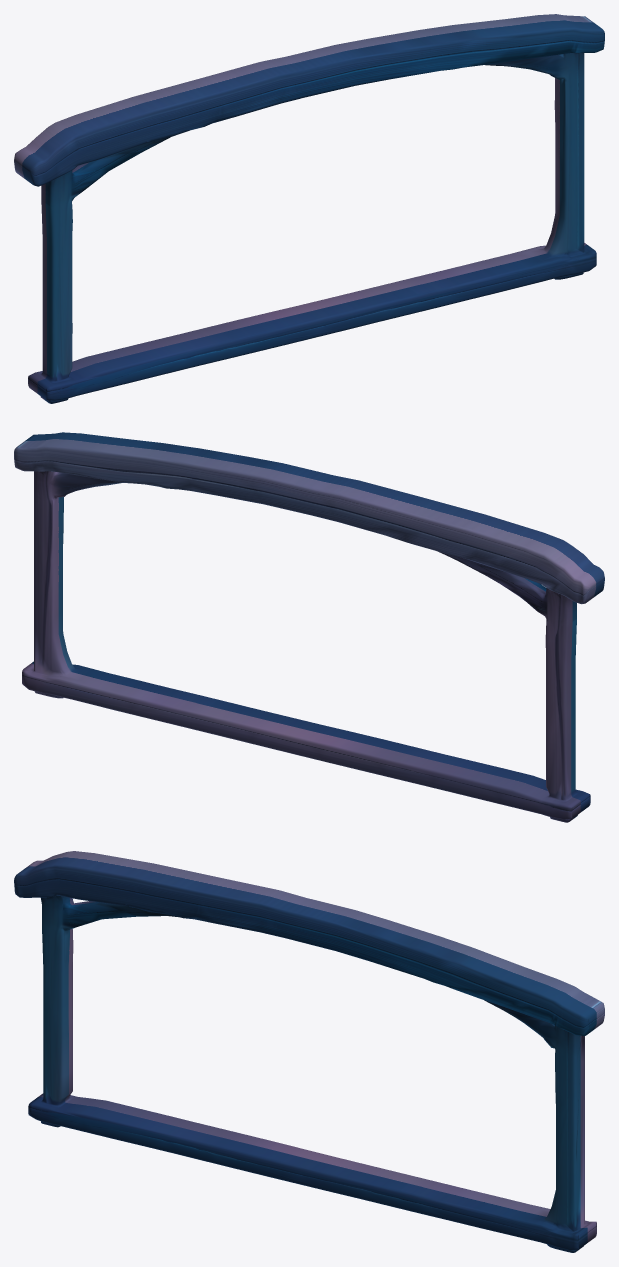
Rendered from env_shop_window_wide.fbx.
3 views of the same model, one above another, from view 1: azimuth 30°, elevation 25°; view 2: azimuth 150°, elevation 25°; view 3: azimuth 330°, elevation 25° (orthographic).
Visible parts, largest first — view 1: env_shop_window_wide; view 2: env_shop_window_wide; view 3: env_shop_window_wide.
Boxes of the visible parts, x1,y1,x2,y2 form: env_shop_window_wide: (14, 14, 604, 403); env_shop_window_wide: (14, 432, 604, 822); env_shop_window_wide: (14, 851, 604, 1252).
Bounding box in the file's own units: 4.47 × 2.06 × 0.2904.
1 material, 1 textured.
